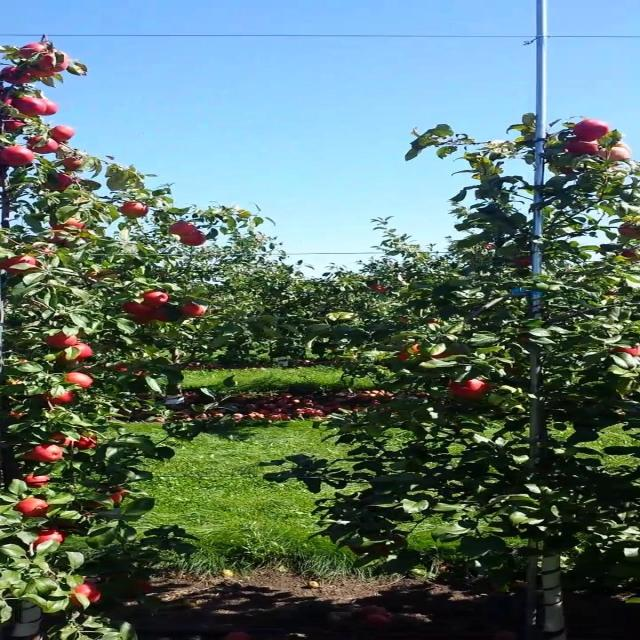apple: (347, 535, 407, 556), (449, 379, 491, 400), (69, 582, 102, 608), (27, 54, 64, 77), (573, 119, 611, 141), (0, 255, 40, 274), (0, 145, 36, 166), (11, 96, 47, 116), (24, 444, 64, 462), (0, 146, 36, 166), (36, 51, 69, 72), (16, 498, 49, 518), (564, 139, 600, 155), (431, 344, 469, 359), (0, 66, 31, 84), (44, 172, 73, 191), (44, 332, 78, 348), (27, 138, 60, 154), (140, 290, 169, 308), (151, 304, 180, 322), (120, 201, 149, 218), (64, 372, 93, 389), (604, 142, 631, 160), (44, 390, 76, 405), (33, 529, 64, 544), (18, 42, 47, 58), (49, 125, 76, 142), (53, 218, 87, 231), (169, 221, 198, 236), (180, 230, 207, 246), (180, 302, 207, 318), (84, 269, 118, 281), (122, 301, 153, 314), (31, 241, 56, 257), (56, 349, 80, 365), (73, 342, 93, 361), (22, 474, 49, 488), (618, 222, 640, 239), (27, 66, 58, 78), (44, 230, 67, 246), (60, 156, 84, 171), (40, 98, 60, 116), (398, 344, 420, 360), (129, 580, 151, 596), (0, 91, 16, 113), (49, 432, 73, 446), (73, 436, 96, 450), (613, 345, 639, 357), (22, 446, 42, 461), (127, 314, 156, 324), (2, 119, 24, 132), (109, 489, 129, 503), (133, 580, 151, 595), (367, 281, 389, 293), (620, 248, 640, 261), (84, 500, 104, 511), (513, 256, 531, 268), (51, 222, 67, 235), (7, 410, 27, 420), (111, 362, 129, 372)
